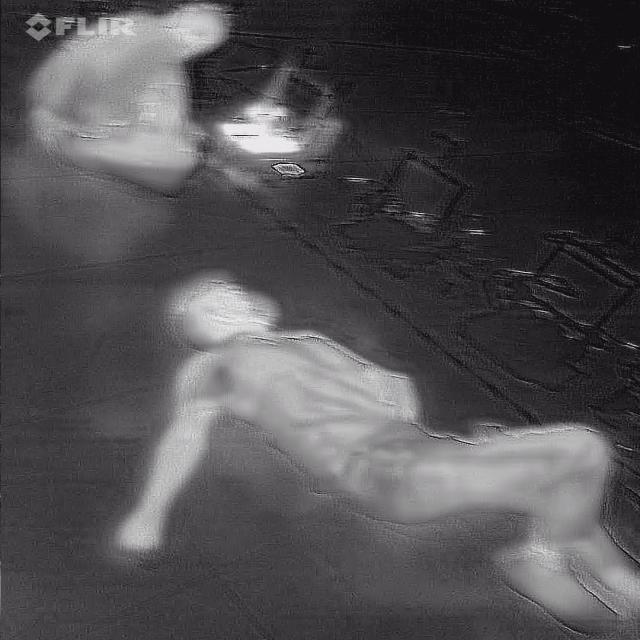Victim: (112, 266, 638, 637), (32, 0, 238, 201)
